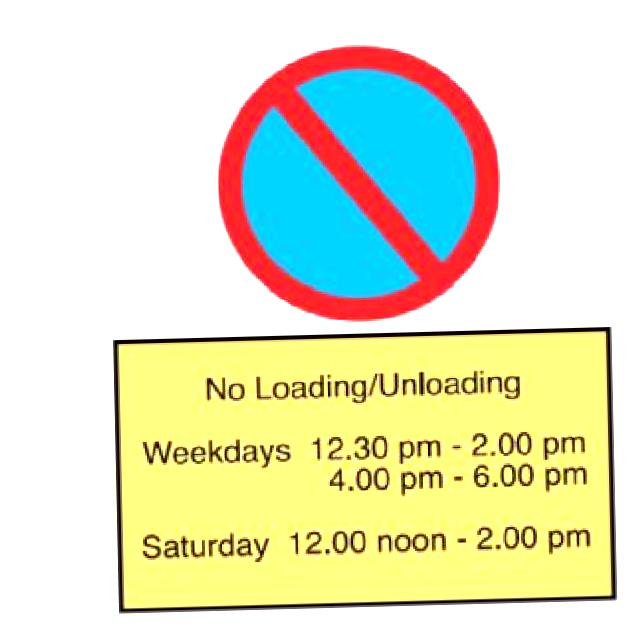forb_stopping: (217, 47, 503, 319)
